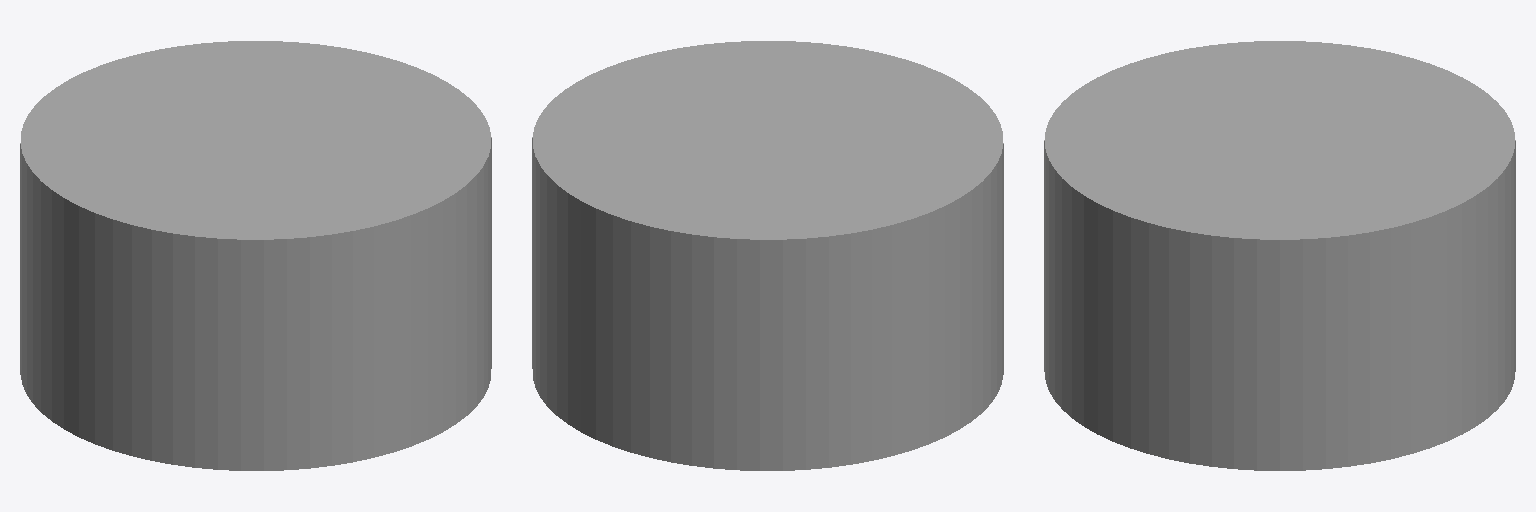
robot.urdf — spot_arm:
<?xml version="1.0" ?>
<!-- =================================================================================== -->
<!-- |    This document was autogenerated by xacro from spot_ws/src/Spot-Arm/spot_arm_description/urdf/spot_arm.xacro | -->
<!-- |    EDITING THIS FILE BY HAND IS NOT RECOMMENDED                                 | -->
<!-- =================================================================================== -->
<robot name="spot_arm">
  <material name="silver">
    <color rgba="0.700 0.700 0.700 1.000"/>
  </material>
  <transmission name="Rev3_tran">
    <type>transmission_interface/SimpleTransmission</type>
    <joint name="Rev3">
      <hardwareInterface>hardware_interface/EffortJointInterface</hardwareInterface>
    </joint>
    <actuator name="Rev3_actr">
      <hardwareInterface>hardware_interface/EffortJointInterface</hardwareInterface>
      <mechanicalReduction>1</mechanicalReduction>
    </actuator>
  </transmission>
  <transmission name="Rev6_tran">
    <type>transmission_interface/SimpleTransmission</type>
    <joint name="Rev6">
      <hardwareInterface>hardware_interface/EffortJointInterface</hardwareInterface>
    </joint>
    <actuator name="Rev6_actr">
      <hardwareInterface>hardware_interface/EffortJointInterface</hardwareInterface>
      <mechanicalReduction>1</mechanicalReduction>
    </actuator>
  </transmission>
  <transmission name="Rev7_tran">
    <type>transmission_interface/SimpleTransmission</type>
    <joint name="Rev7">
      <hardwareInterface>hardware_interface/EffortJointInterface</hardwareInterface>
    </joint>
    <actuator name="Rev7_actr">
      <hardwareInterface>hardware_interface/EffortJointInterface</hardwareInterface>
      <mechanicalReduction>1</mechanicalReduction>
    </actuator>
  </transmission>
  <transmission name="Rev8_tran">
    <type>transmission_interface/SimpleTransmission</type>
    <joint name="Rev8">
      <hardwareInterface>hardware_interface/EffortJointInterface</hardwareInterface>
    </joint>
    <actuator name="Rev8_actr">
      <hardwareInterface>hardware_interface/EffortJointInterface</hardwareInterface>
      <mechanicalReduction>1</mechanicalReduction>
    </actuator>
  </transmission>
  <transmission name="Rev9_tran">
    <type>transmission_interface/SimpleTransmission</type>
    <joint name="Rev9">
      <hardwareInterface>hardware_interface/EffortJointInterface</hardwareInterface>
    </joint>
    <actuator name="Rev9_actr">
      <hardwareInterface>hardware_interface/EffortJointInterface</hardwareInterface>
      <mechanicalReduction>1</mechanicalReduction>
    </actuator>
  </transmission>
  <transmission name="Rev10_tran">
    <type>transmission_interface/SimpleTransmission</type>
    <joint name="Rev10">
      <hardwareInterface>hardware_interface/EffortJointInterface</hardwareInterface>
    </joint>
    <actuator name="Rev10_actr">
      <hardwareInterface>hardware_interface/EffortJointInterface</hardwareInterface>
      <mechanicalReduction>1</mechanicalReduction>
    </actuator>
  </transmission>
  <transmission name="Rev11_tran">
    <type>transmission_interface/SimpleTransmission</type>
    <joint name="Rev11">
      <hardwareInterface>hardware_interface/EffortJointInterface</hardwareInterface>
    </joint>
    <actuator name="Rev11_actr">
      <hardwareInterface>hardware_interface/EffortJointInterface</hardwareInterface>
      <mechanicalReduction>1</mechanicalReduction>
    </actuator>
  </transmission>
  <gazebo>
    <plugin filename="libgazebo_ros_control.so" name="control"/>
  </gazebo>
  <gazebo reference="base_link">
    <material>Gazebo/Silver</material>
    <mu1>0.2</mu1>
    <mu2>0.2</mu2>
    <selfCollide>true</selfCollide>
    <gravity>true</gravity>
  </gazebo>
  <gazebo reference="Part3_1">
    <material>Gazebo/Silver</material>
    <mu1>0.2</mu1>
    <mu2>0.2</mu2>
    <selfCollide>true</selfCollide>
  </gazebo>
  <gazebo reference="gripper_1">
    <material>Gazebo/Silver</material>
    <mu1>0.2</mu1>
    <mu2>0.2</mu2>
    <selfCollide>true</selfCollide>
  </gazebo>
  <gazebo reference="finger_1">
    <material>Gazebo/Silver</material>
    <mu1>0.2</mu1>
    <mu2>0.2</mu2>
    <selfCollide>true</selfCollide>
  </gazebo>
  <gazebo reference="Part1_1">
    <material>Gazebo/Silver</material>
    <mu1>0.2</mu1>
    <mu2>0.2</mu2>
    <selfCollide>true</selfCollide>
  </gazebo>
  <gazebo reference="Part0_1">
    <material>Gazebo/Silver</material>
    <mu1>0.2</mu1>
    <mu2>0.2</mu2>
    <selfCollide>true</selfCollide>
  </gazebo>
  <gazebo reference="Part4_1">
    <material>Gazebo/Silver</material>
    <mu1>0.2</mu1>
    <mu2>0.2</mu2>
    <selfCollide>true</selfCollide>
  </gazebo>
  <gazebo reference="Part2_1">
    <material>Gazebo/Silver</material>
    <mu1>0.2</mu1>
    <mu2>0.2</mu2>
    <selfCollide>true</selfCollide>
  </gazebo>
  <link name="base_link">
    <inertial>
      <origin rpy="0 0 0" xyz="1.2371844231029972e-17 0.0 0.0325"/>
      <mass value="5.770791545379091"/>
      <inertia ixx="0.007226" ixy="-0.0" ixz="0.0" iyy="0.007226" iyz="0.0" izz="0.010387"/>
    </inertial>
    <visual>
      <origin rpy="0 0 0" xyz="0 0 0"/>
      <geometry>
        <mesh filename="package://spot_arm_description/meshes/base_link.stl" scale="0.001 0.001 0.001"/>
      </geometry>
      <material name="silver"/>
    </visual>
    <collision>
      <origin rpy="0 0 0" xyz="0 0 0"/>
      <geometry>
        <mesh filename="package://spot_arm_description/meshes/base_link.stl" scale="0.001 0.001 0.001"/>
      </geometry>
    </collision>
  </link>
  <joint name="j0" type="revolute">
    <origin rpy="0 0 0" xyz="0.0 0.0 0.065"/>
    <parent link="base_link"/>
    <child link="Part0_1"/>
    <axis xyz="0.0 0.0 1.0"/>
    <limit effort="100" lower="-3.141593" upper="2.617994" velocity="100"/>
  </joint>
  <link name="Part0_1">
    <inertial>
      <origin rpy="0 0 0" xyz="0.05071972800114364 -1.0308563411658574e-17 0.04676911608650795"/>
      <mass value="6.925827706354272"/>
      <inertia ixx="0.01241" ixy="-0.0" ixz="-0.001047" iyy="0.010387" iyz="0.0" izz="0.012306"/>
    </inertial>
    <visual>
      <origin rpy="0 0 0" xyz="-0.0 -0.0 -0.065"/>
      <geometry>
        <mesh filename="package://spot_arm_description/meshes/Part0_1.stl" scale="0.001 0.001 0.001"/>
      </geometry>
      <material name="silver"/>
    </visual>
    <collision>
      <origin rpy="0 0 0" xyz="-0.0 -0.0 -0.065"/>
      <geometry>
        <mesh filename="package://spot_arm_description/meshes/Part0_1.stl" scale="0.001 0.001 0.001"/>
      </geometry>
    </collision>
  </link>
  <joint name="j1" type="revolute">
    <origin rpy="3.1415 0 0" xyz="0.015 0.0 0.05"/>
    <parent link="Part0_1"/>
    <child link="Part1_1"/>
    <axis xyz="-1.0 0.0 0.0"/>
    <limit effort="100" lower="-0.523598" upper="3.1415926" velocity="100"/>
  </joint>
  <link name="Part1_1">
    <inertial>
      <origin rpy="0 0 0" xyz="-0.0163095589512068 0.17540914221218962 0.0"/>
      <mass value="12.658281999999998"/>
      <inertia ixx="0.12979" ixy="0.002625" ixz="0.0" iyy="0.01004" iyz="0.0" izz="0.129493"/>
    </inertial>
    <visual>
      <origin rpy="0 0 0" xyz="-0.015 -0.0 -0.115"/>
      <geometry>
        <mesh filename="package://spot_arm_description/meshes/Part1_1.stl" scale="0.001 0.001 0.001"/>
      </geometry>
      <material name="silver"/>
    </visual>
    <collision>
      <origin rpy="0 0 0" xyz="-0.015 -0.0 -0.115"/>
      <geometry>
        <mesh filename="package://spot_arm_description/meshes/Part1_1.stl" scale="0.001 0.001 0.001"/>
      </geometry>
    </collision>
  </link>
  <joint name="j2" type="revolute">
    <origin rpy="0 0 0" xyz="0.002 0.3125 0.0"/>
    <parent link="Part1_1"/>
    <child link="Part2_1"/>
    <axis xyz="1.0 0.0 0.0"/>
    <limit effort="100" lower="0.0" upper="2.96706" velocity="100"/>
  </joint>
  <link name="Part2_1">
    <inertial>
      <origin rpy="0 0 0" xyz="-0.015621881612358529 0.06665620790957599 -0.058074231003688394"/>
      <mass value="7.368455487741179"/>
      <inertia ixx="0.018073" ixy="0.000915" ixz="-0.00101" iyy="0.011789" iyz="0.003728" izz="0.01667"/>
    </inertial>
    <visual>
      <origin rpy="0 0 0" xyz="-0.017 -0.3125 -0.115"/>
      <geometry>
        <mesh filename="package://spot_arm_description/meshes/Part2_1.stl" scale="0.001 0.001 0.001"/>
      </geometry>
      <material name="silver"/>
    </visual>
    <collision>
      <origin rpy="0 0 0" xyz="-0.017 -0.3125 -0.115"/>
      <geometry>
        <mesh filename="package://spot_arm_description/meshes/Part2_1.stl" scale="0.001 0.001 0.001"/>
      </geometry>
    </collision>
  </link>
  <joint name="j3" type="revolute">
    <origin rpy="0 0 0" xyz="-0.018 0.138 -0.0675"/>
    <parent link="Part2_1"/>
    <child link="Part3_1"/>
    <axis xyz="0.0 1.0 0.0"/>
    <limit effort="100" lower="-2.879793" upper="2.879793" velocity="100"/>
  </joint>
  <link name="Part3_1">
    <inertial>
      <origin rpy="0 0 0" xyz="-0.00911464892336129 0.12606054498393937 5.551115123125783e-17"/>
      <mass value="10.95245995004642"/>
      <inertia ixx="0.066789" ixy="0.011971" ixz="-0.0" iyy="0.014993" iyz="0.0" izz="0.071949"/>
    </inertial>
    <visual>
      <origin rpy="0 0 0" xyz="0.001 -0.4505 -0.0475"/>
      <geometry>
        <mesh filename="package://spot_arm_description/meshes/Part3_1.stl" scale="0.001 0.001 0.001"/>
      </geometry>
      <material name="silver"/>
    </visual>
    <collision>
      <origin rpy="0 0 0" xyz="0.001 -0.4505 -0.0475"/>
      <geometry>
        <mesh filename="package://spot_arm_description/meshes/Part3_1.stl" scale="0.001 0.001 0.001"/>
      </geometry>
    </collision>
  </link>
  <joint name="j4" type="revolute">
    <origin rpy="0 0 0" xyz="-0.0475 0.24809 0.0"/>
    <parent link="Part3_1"/>
    <child link="Part4_1"/>
    <axis xyz="1.0 0.0 0.0"/>
    <limit effort="100" lower="-1.8326" upper="1.8326" velocity="100"/>
  </joint>
  <link name="Part4_1">
    <inertial>
      <origin rpy="0 0 0" xyz="0.03954999709763633 0.03472006124891969 4.209155544249166e-08"/>
      <mass value="3.2278801394086396"/>
      <inertia ixx="0.00339" ixy="-2.1e-05" ixz="0.0" iyy="0.002242" iyz="-0.0" izz="0.003439"/>
    </inertial>
    <visual>
      <origin rpy="0 0 0" xyz="0.0485 -0.69859 -0.0475"/>
      <geometry>
        <mesh filename="package://spot_arm_description/meshes/Part4_1.stl" scale="0.001 0.001 0.001"/>
      </geometry>
      <material name="silver"/>
    </visual>
    <collision>
      <origin rpy="0 0 0" xyz="0.0485 -0.69859 -0.0475"/>
      <geometry>
        <mesh filename="package://spot_arm_description/meshes/Part4_1.stl" scale="0.001 0.001 0.001"/>
      </geometry>
    </collision>
  </link>
  <joint name="j5" type="revolute">
    <origin rpy="0 0 0" xyz="0.04 0.081 0.0"/>
    <parent link="Part4_1"/>
    <child link="gripper_1"/>
    <axis xyz="-0.0 1.0 0.0"/>
    <limit effort="100" lower="-2.96706" upper="2.96706" velocity="100"/>
  </joint>
  <link name="gripper_1">
    <inertial>
      <origin rpy="0 0 0" xyz="-8.366123908053191e-08 0.07051371901138614 0.017123167388316526"/>
      <mass value="5.9780007036604434"/>
      <inertia ixx="0.01723" ixy="0.0" ixz="0.0" iyy="0.00734" iyz="-0.003871" izz="0.0153"/>
    </inertial>
    <visual>
      <origin rpy="0 0 0" xyz="0.0085 -0.77959 -0.0475"/>
      <geometry>
        <mesh filename="package://spot_arm_description/meshes/gripper_1.stl" scale="0.001 0.001 0.001"/>
      </geometry>
      <material name="silver"/>
    </visual>
    <collision>
      <origin rpy="0 0 0" xyz="0.0085 -0.77959 -0.0475"/>
      <geometry>
        <mesh filename="package://spot_arm_description/meshes/gripper_1.stl" scale="0.001 0.001 0.001"/>
      </geometry>
    </collision>
  </link>
  <joint name="j6" type="revolute">
    <origin rpy="0 0 0" xyz="0 0.043915 -0.029"/>
    <parent link="gripper_1"/>
    <child link="finger_1"/>
    <axis xyz="1.0 -0.0 0.0"/>
    <limit effort="100" lower="-1.396263" upper="0.349066" velocity="100"/>
  </joint>
  <link name="finger_1">
    <inertial>
      <origin rpy="0 0 0" xyz="0 0.09862056591557622 0.00850232975194119"/>
      <mass value="1.71236178687828"/>
      <inertia ixx="0.002129" ixy="0.0" ixz="-0.0" iyy="0.001681" iyz="0.000162" izz="0.003403"/>
    </inertial>
    <visual>
      <origin rpy="0 0 0" xyz="0.0087709 -0.823505 -0.0185"/>
      <geometry>
        <mesh filename="package://spot_arm_description/meshes/finger_1.stl" scale="0.001 0.001 0.001"/>
      </geometry>
      <material name="silver"/>
    </visual>
    <collision>
      <origin rpy="0 0 0" xyz="0.0087709 -0.823505 -0.0185"/>
      <geometry>
        <mesh filename="package://spot_arm_description/meshes/finger_1.stl" scale="0.001 0.001 0.001"/>
      </geometry>
    </collision>
  </link>
</robot>

--- Render facts (derived) ---
3 views of the same robot in one strip: view 1: azimuth 30°, elevation 25°; view 2: azimuth 150°, elevation 25°; view 3: azimuth 270°, elevation 25° (orthographic).
Model spot_arm with 8 links and 7 joints (7 revolute), rooted at base_link, posed every joint at zero.
Visible links, largest first — view 1: base_link; view 2: base_link; view 3: base_link.
Link boxes in pixels (bbox=[...]): base_link: bbox=[20, 41, 491, 470]; base_link: bbox=[532, 41, 1003, 470]; base_link: bbox=[1044, 41, 1515, 470].
Size in the robot's own frame: 0.12 by 0.12 by 0.065 metres.
Meshes: 8 distinct files referenced, 1 mesh visuals loaded (1 ASCII STL); not drawn: 7 (reference not matched to a file when rendering).